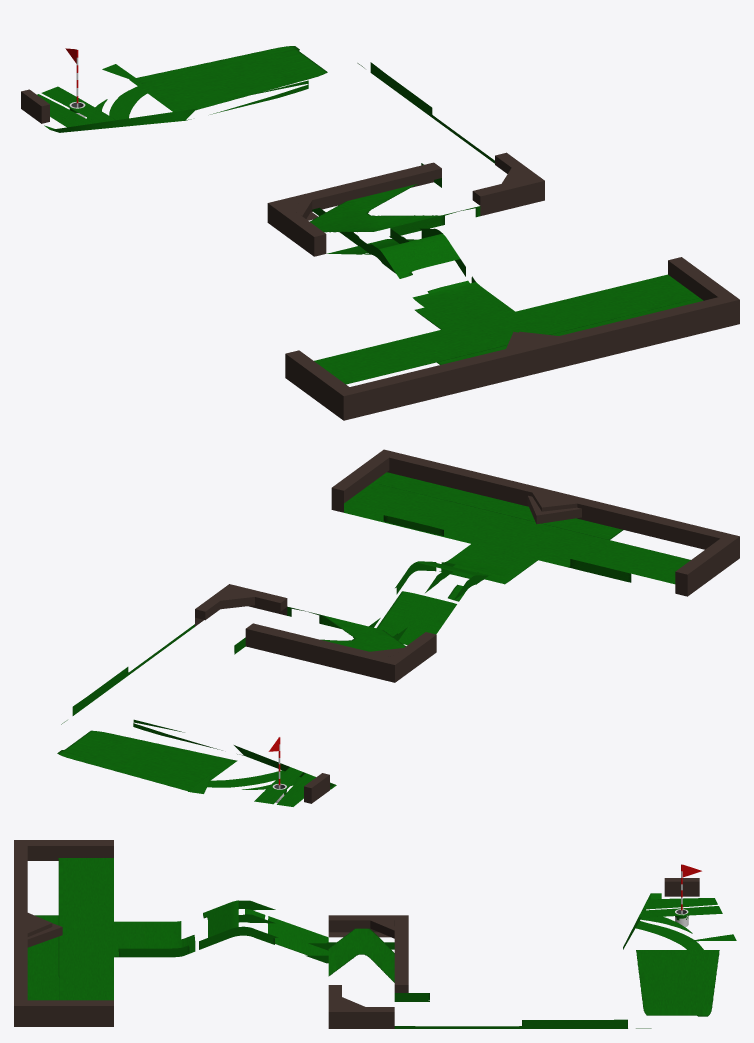
File: Course2.fbx
3 views of the same model, one above another, from view 1: azimuth 30°, elevation 25°; view 2: azimuth 150°, elevation 25°; view 3: azimuth 270°, elevation 25° (orthographic). The views are drawn at different scales.
Parts seen in each view (by area): view 1: Course, Cube.001; view 2: Course, Corner; view 3: Course, Cube.001, Corner, Cube, Corner3.001.
Part boxes in pixels (<box>): Course: <box>37,46,739,420</box>; Cube.001: <box>21,89,49,123</box>; Course: <box>57,449,739,806</box>; Corner: <box>527,495,581,524</box>; Course: <box>14,840,736,1028</box>; Cube.001: <box>664,878,699,896</box>; Corner: <box>27,923,62,947</box>; Cube: <box>27,913,52,936</box>; Corner3.001: <box>370,920,394,938</box>.
Size of the model in its own units: 2237 by 381 by 4137.
Materials: 6 (1 with a texture image).
